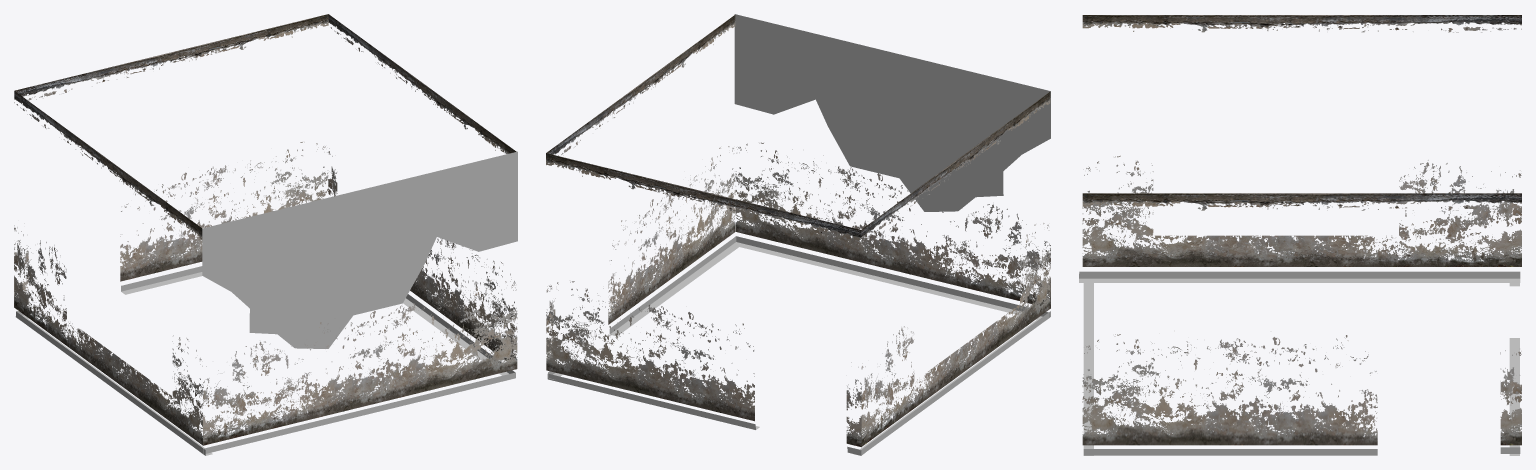
The model's file is RoofArea01_Decals.FBX.
The picture shows the model from 3 angles, left to right: view 1: azimuth 30°, elevation 25°; view 2: azimuth 150°, elevation 25°; view 3: azimuth 270°, elevation 25°; orthographic projection. The views are drawn at different scales.
Parts seen in each view (by area): view 1: RoofArea01_Decals; view 2: RoofArea01_Decals; view 3: RoofArea01_Decals.
Part boxes in pixels (bbox=[...]): RoofArea01_Decals: bbox=[14, 14, 517, 455]; RoofArea01_Decals: bbox=[546, 14, 1050, 455]; RoofArea01_Decals: bbox=[1079, 15, 1521, 455].
Size of the model in its own units: 431 by 296 by 451.
